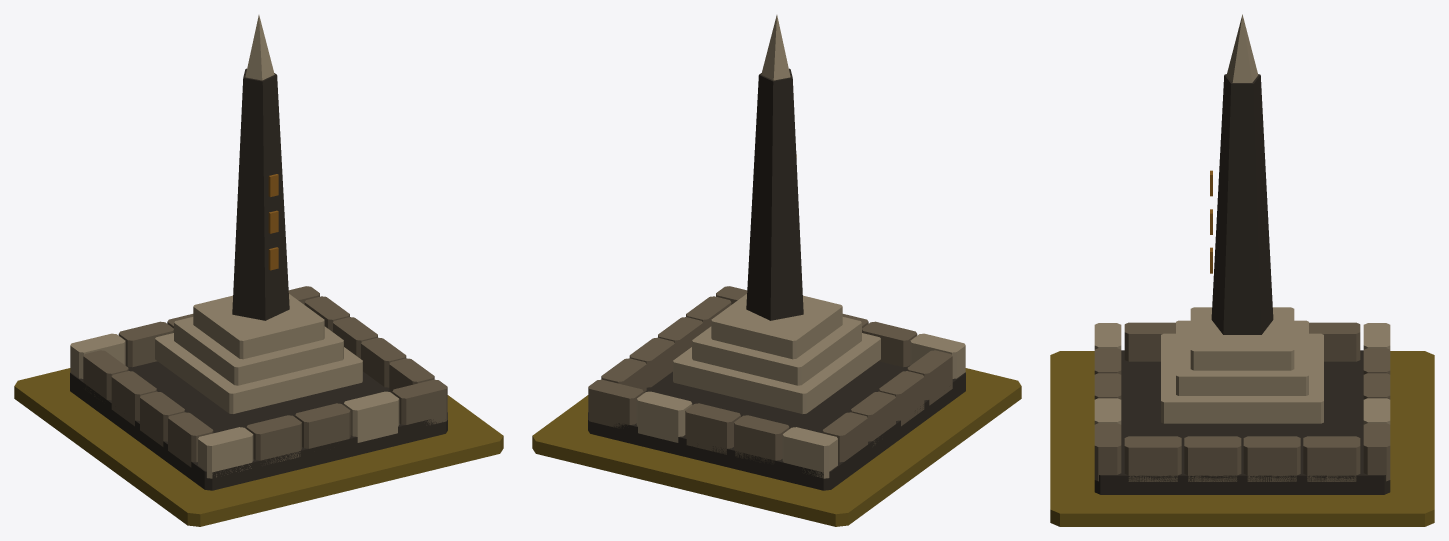
File: oathstone_t1.glb
The picture shows the model from 3 angles, left to right: view 1: azimuth 30°, elevation 25°; view 2: azimuth 150°, elevation 25°; view 3: azimuth 270°, elevation 25°; orthographic projection. The views are drawn at different scales.
Visible parts, largest first — view 1: MMR | oathstone | T01 Architecture.001, MMR | oathstone | Tier 01 Ground.001; view 2: MMR | oathstone | T01 Architecture.001, MMR | oathstone | Tier 01 Ground.001; view 3: MMR | oathstone | T01 Architecture.001, MMR | oathstone | Tier 01 Ground.001.
Part boxes in pixels (x1=…): MMR | oathstone | T01 Architecture.001: x1=70, y1=15, x2=447, y2=490; MMR | oathstone | Tier 01 Ground.001: x1=14, y1=368, x2=503, y2=526; MMR | oathstone | T01 Architecture.001: x1=588, y1=15, x2=965, y2=490; MMR | oathstone | Tier 01 Ground.001: x1=532, y1=368, x2=1021, y2=526; MMR | oathstone | T01 Architecture.001: x1=1094, y1=14, x2=1390, y2=494; MMR | oathstone | Tier 01 Ground.001: x1=1050, y1=351, x2=1434, y2=526.
Bounding box in the file's own units: 1.3 × 1.61 × 1.3.
Materials: 1 (1 with a texture image).
